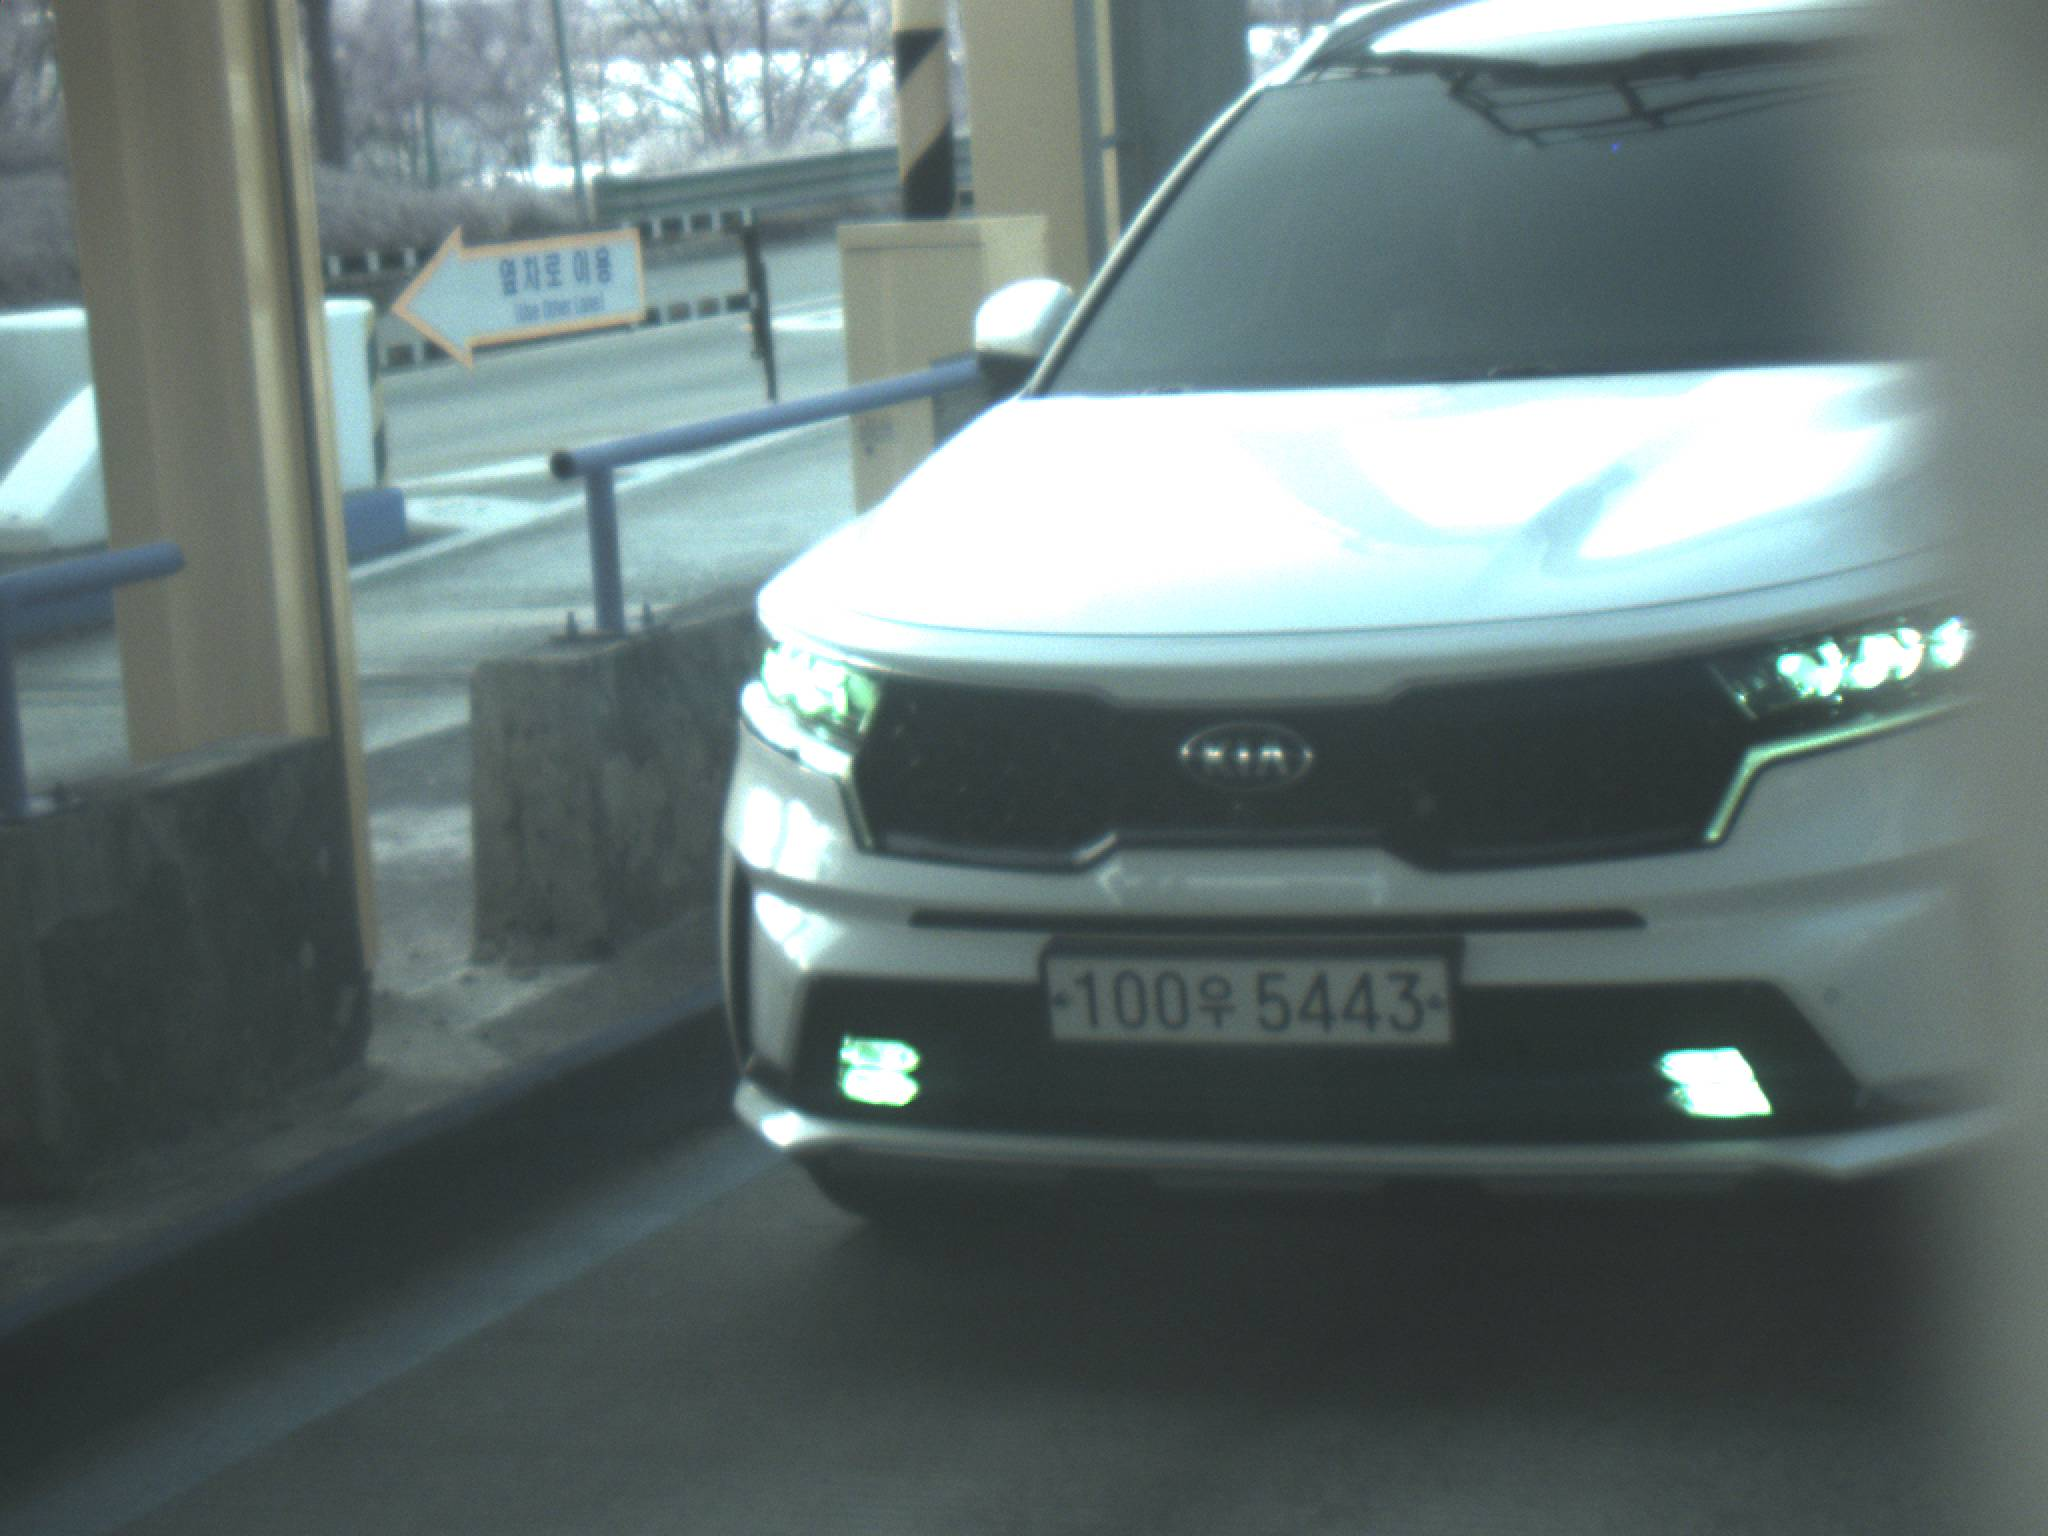car: (702, 1, 2033, 1249)
plate: (1038, 943, 1461, 1051)
